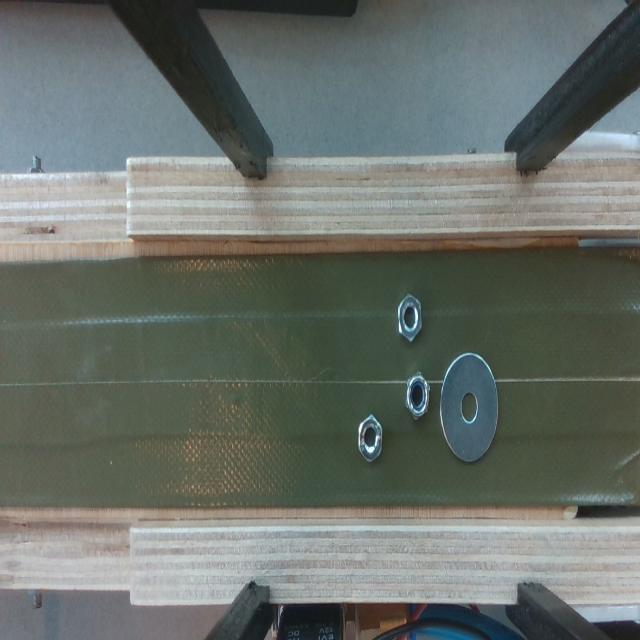Nut: (390, 289, 429, 345), (347, 410, 388, 462), (401, 369, 433, 420)
Washer: (432, 340, 506, 471)
